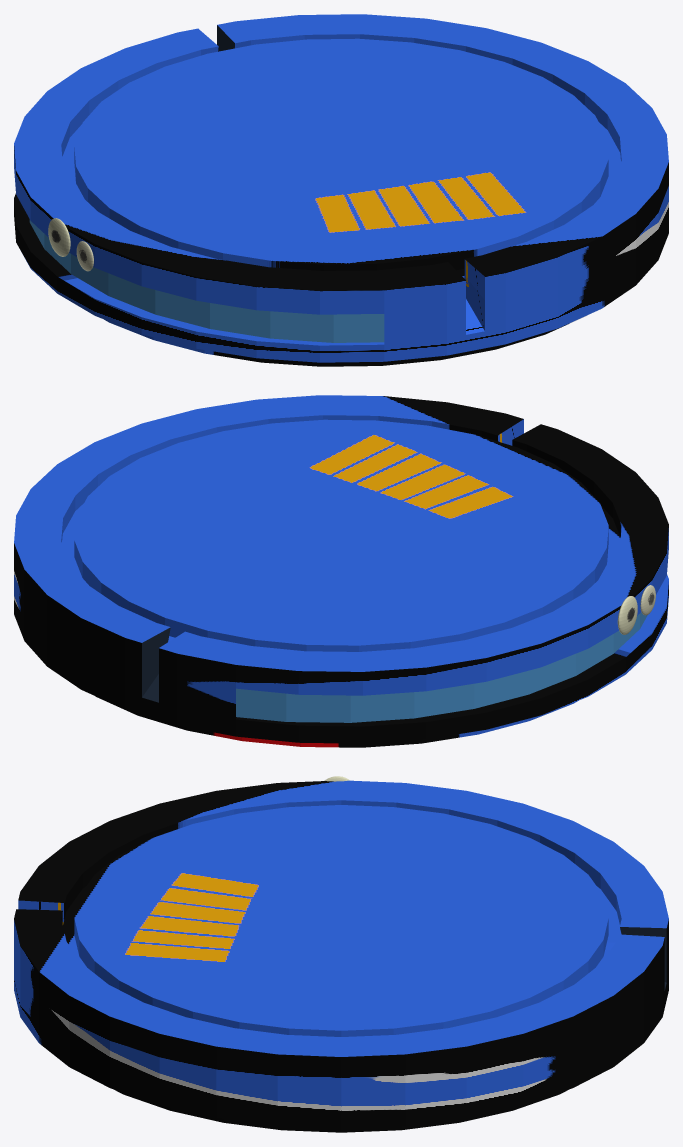
Rendered from aspiradorRobertoFinal.fbx.
3 renders of one model, top to bottom at view 1: azimuth 30°, elevation 25°; view 2: azimuth 150°, elevation 25°; view 3: azimuth 270°, elevation 25°, orthographic.
Parts seen in each view (by area): view 1: Cylinder.001, Cylinder.003, Sphere; view 2: Cylinder.001, Cylinder.003, Cylinder.002, Sphere; view 3: Cylinder.001, Cylinder.002.
Boxes of the visible parts, <box> form: Cylinder.001: <box>14,14,668,366</box>; Cylinder.003: <box>29,219,384,342</box>; Sphere: <box>48,218,70,256</box>; Cylinder.001: <box>14,395,668,747</box>; Cylinder.003: <box>236,612,647,722</box>; Cylinder.002: <box>142,627,170,702</box>; Sphere: <box>617,596,637,634</box>; Cylinder.001: <box>14,780,668,1132</box>; Cylinder.002: <box>620,927,666,990</box>.
Size of the model in its own units: 184 by 32.66 by 183.
